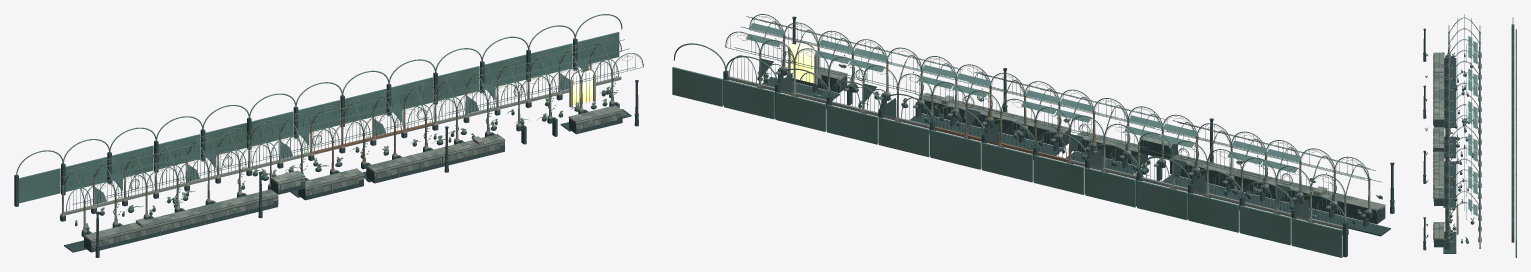
The model's file is conservatory.glb.
3 renders of one model, left to right at view 1: azimuth 30°, elevation 25°; view 2: azimuth 150°, elevation 25°; view 3: azimuth 270°, elevation 25°, orthographic. The views are drawn at different scales.
Visible parts, largest first — view 1: Room0_Bronze | oxidised, Room0_Membrane | smoked jade, Room2_Membrane | smoked jade, Room4_Membrane | smoked jade, Room4_Bronze | oxidised, Room2_Bronze | oxidised, Room0_Basalt | submerged, Room3_Basalt | submerged, Room1_Membrane | smoked jade, Room3_Membrane | smoked jade, Room3_Bronze | oxidised, Room1_Bronze | oxidised (+24 smaller); view 2: Room0_Basalt | submerged, Room0_Membrane | smoked jade, Room2_Membrane | smoked jade, Room4_Membrane | smoked jade, Room0_Bronze | oxidised, Room4_Bronze | oxidised, Room2_Bronze | oxidised, Room3_Basalt | submerged, Room3_Membrane | smoked jade, Room1_Membrane | smoked jade, Room3_Bronze | oxidised, Room1_Bronze | oxidised (+22 smaller); view 3: Room0_Basalt | submerged, Room3_Basalt | submerged, Room4_Basalt | submerged, Room0_Bronze | oxidised, Room4_Bronze | oxidised, Room1_Basalt | submerged, Room2_Basalt | submerged, Room2_Bronze | oxidised, Room0_Limestone | pearl ash, Room3_Bronze | oxidised, Room1_Bronze | oxidised, Room2_Distant glazing | pale aqua (+31 smaller).
Part boxes in pixels (x1,y1,x2,y2): Room0_Bronze | oxidised: (16, 127, 250, 221); Room0_Membrane | smoked jade: (19, 145, 153, 203); Room2_Membrane | smoked jade: (251, 88, 386, 146); Room4_Membrane | smoked jade: (484, 32, 619, 88); Room4_Bronze | oxidised: (424, 14, 643, 115); Room2_Bronze | oxidised: (241, 70, 429, 165); Room0_Basalt | submerged: (14, 140, 277, 257); Room3_Basalt | submerged: (363, 61, 526, 183); Room1_Membrane | smoked jade: (158, 123, 246, 169); Room3_Membrane | smoked jade: (391, 66, 479, 111); Room3_Bronze | oxidised: (389, 48, 526, 134); Room1_Bronze | oxidised: (156, 105, 313, 190); Room0_Basalt | submerged: (1162, 155, 1394, 257); Room0_Membrane | smoked jade: (1188, 193, 1342, 257); Room2_Membrane | smoked jade: (930, 130, 1084, 194); Room4_Membrane | smoked jade: (672, 67, 826, 131); Room0_Bronze | oxidised: (1160, 120, 1381, 225); Room4_Bronze | oxidised: (673, 14, 962, 106); Room2_Bronze | oxidised: (932, 71, 1164, 161); Room3_Basalt | submerged: (826, 68, 1070, 155); Room3_Membrane | smoked jade: (827, 104, 929, 157); Room1_Membrane | smoked jade: (1085, 167, 1187, 219); Room3_Bronze | oxidised: (828, 45, 989, 133); Room1_Bronze | oxidised: (1087, 101, 1231, 192); Room0_Basalt | submerged: (1423, 24, 1514, 127); Room3_Basalt | submerged: (1423, 150, 1514, 217); Room4_Basalt | submerged: (1423, 203, 1514, 253); Room0_Bronze | oxidised: (1448, 14, 1513, 80); Room4_Bronze | oxidised: (1448, 144, 1513, 245); Room1_Basalt | submerged: (1423, 85, 1514, 141); Room2_Basalt | submerged: (1434, 122, 1514, 174); Room2_Bronze | oxidised: (1448, 80, 1513, 151); Room0_Limestone | pearl ash: (1434, 32, 1481, 95); Room3_Bronze | oxidised: (1448, 145, 1513, 196); Room1_Bronze | oxidised: (1448, 66, 1513, 118); Room2_Distant glazing | pale aqua: (1468, 101, 1477, 150).
Size of the model in its own units: 157 by 16.88 by 29.19.
